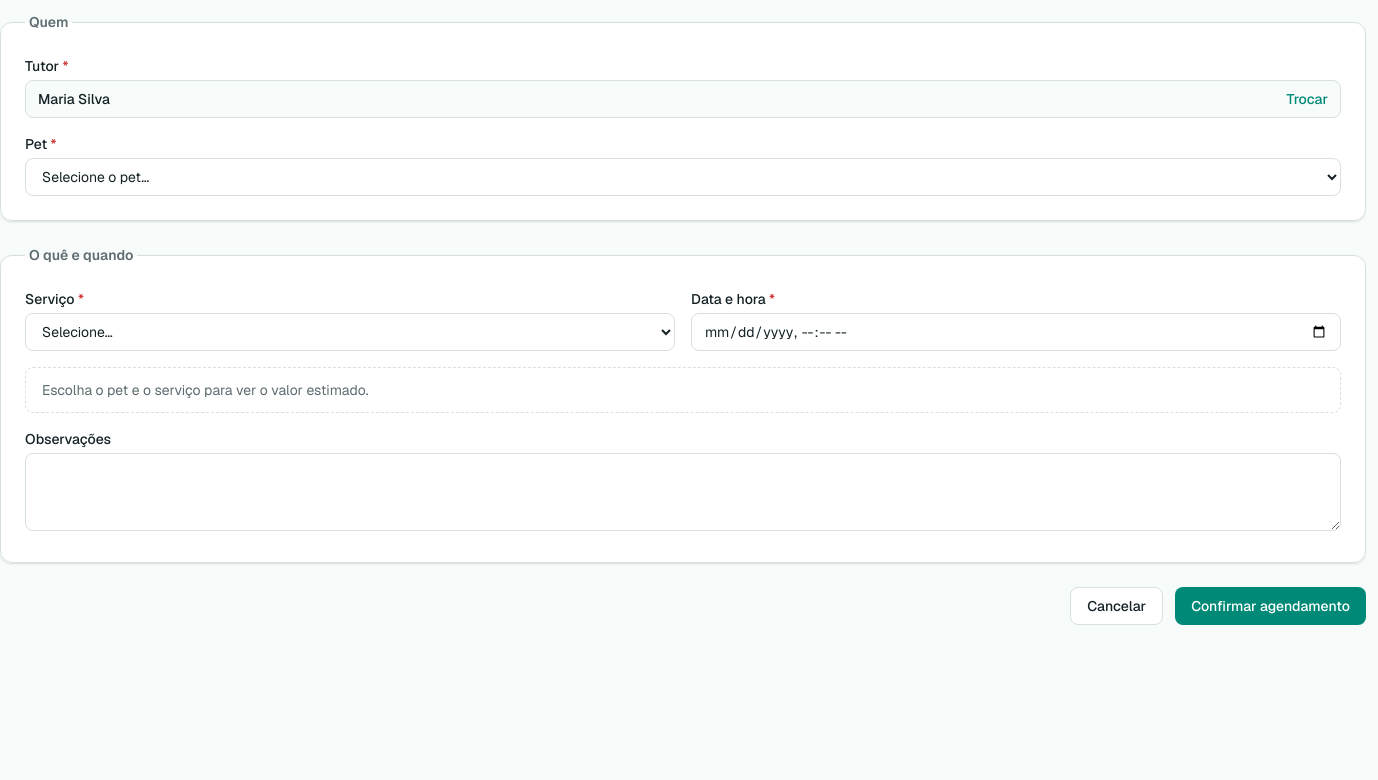
Test: AgendamentoForm › exibeErroDeConflito
Step 1. Select "Banho" in the dropdown labelled "Serviço *" → [350, 332], box [25,313,675,351]
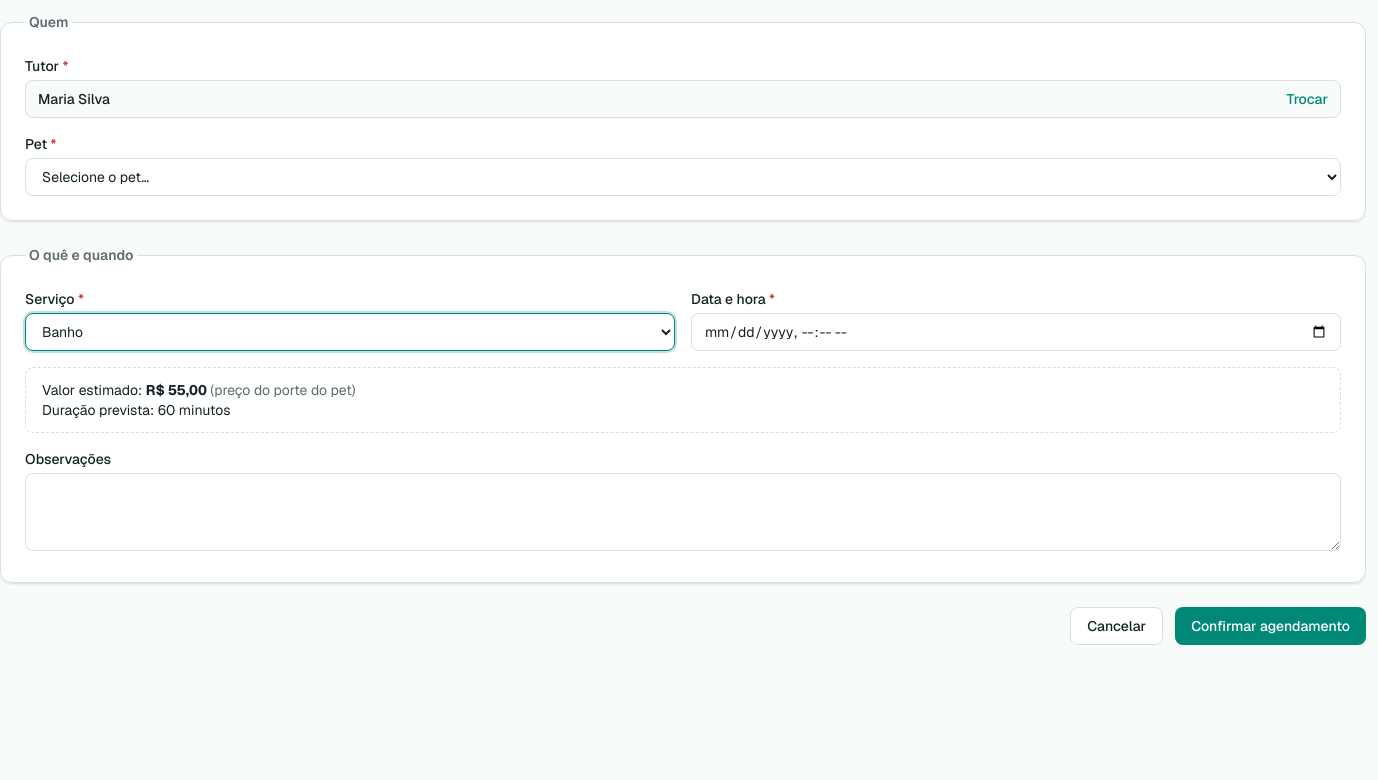
Step 2. Click the button "Confirmar agendamento" → [1271, 626], box [1175,607,1366,645]
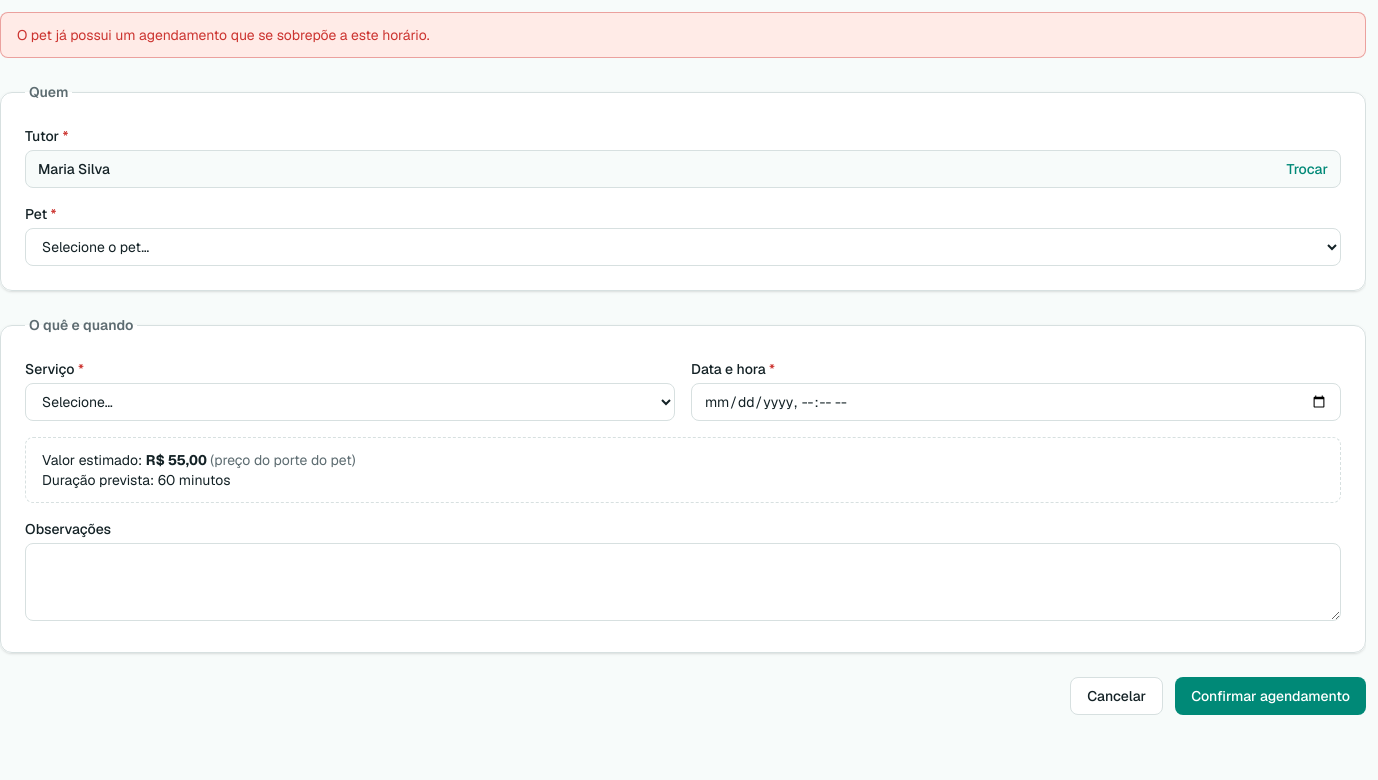
expect the text "O pet já possui um agendamento que se sobrepõe a este horário." is shown: met, box [0,12,1366,58]
